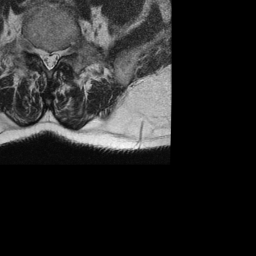CCS_normal: (47, 44, 54, 76)
LFS_normal: (60, 39, 68, 63)
LLS_normal: (53, 43, 60, 70)
RFS_normal: (33, 39, 40, 60)
RLS_normal: (40, 42, 47, 72)
